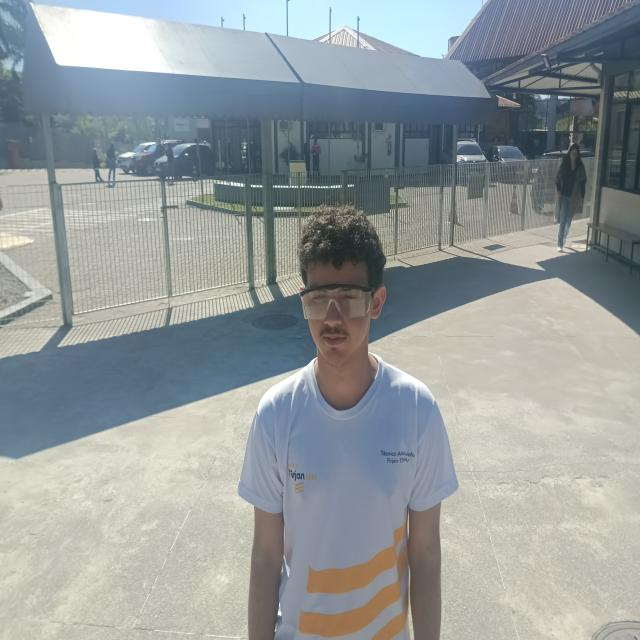oculos-epi: (299, 283, 373, 320)
